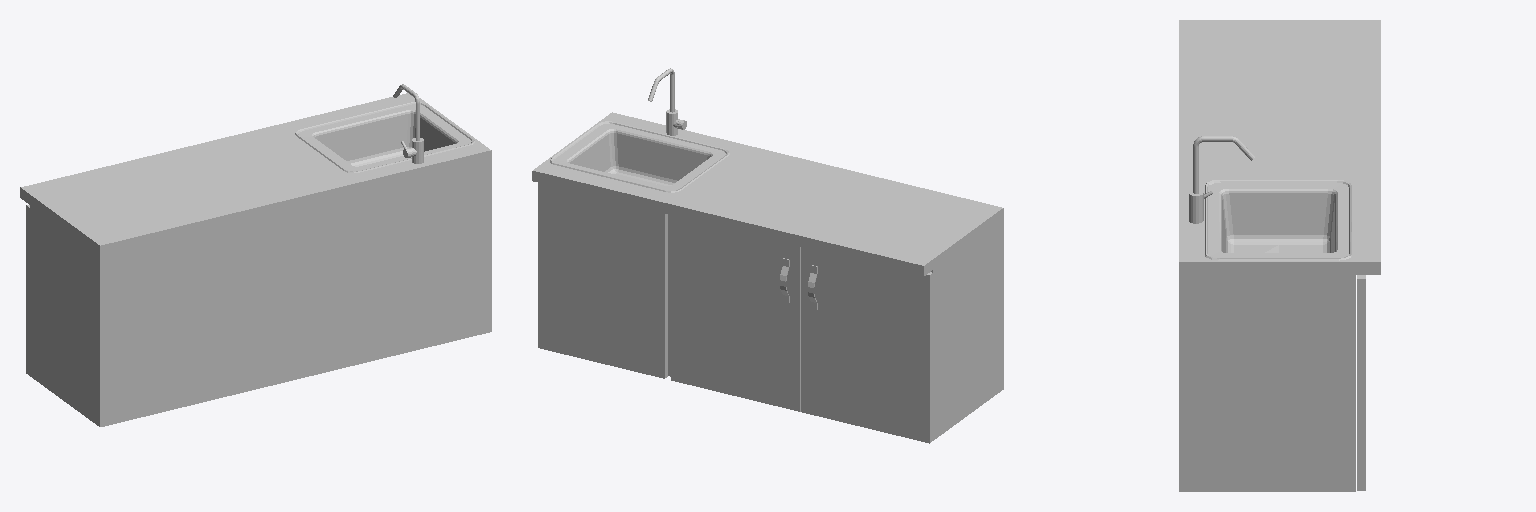
URDF robot description (sink):
<?xml version="1.0" ?>
<robot name="sink">
  <link name="sink">
    <inertial>
      <origin rpy="0 0 0" xyz="0 0 0"/>
      <mass value="1.0"/>
      <inertia ixx="1.821E-05" ixy="-4.1084E-09" ixz="-1.448E-07" iyy="1.062E-05" iyz="-1.5136E-09" izz="1.0557E-05"/>
    </inertial>
    <visual>
      <origin rpy="0 0 0" xyz="0 0 0"/>
      <geometry>
        <mesh filename="sink.obj"/>
      </geometry>
      <material name="aluminium">
        <color rgba="0.827450980392156 0.827450980392156 0.827450980392156 1.0"/>
      </material>
    </visual>
    <collision>
      <origin rpy="0 0 0" xyz="0 0 0"/>
      <geometry>
        <mesh filename="sink.obj"/>
      </geometry>
    </collision>
  </link>
</robot>

--- What the picture shows (computed from the rendered views, not written in the file) ---
Views: 3 orthographic renders of the robot side by side, from view 1: azimuth 30°, elevation 25°; view 2: azimuth 150°, elevation 25°; view 3: azimuth 270°, elevation 25°.
Robot: sink — 1 links, 0 joints (none); root link sink; default pose: every joint at zero.
Visible links, largest first — view 1: sink; view 2: sink; view 3: sink.
Link boxes in pixels (x1,y1,x2,y2): sink: (20, 84, 491, 426); sink: (532, 68, 1003, 443); sink: (1179, 20, 1380, 491).
Bounding box of the posed robot: 1.87 × 0.659 × 1.13 m (x, y, z).
1 mesh visuals loaded from 1 distinct referenced files (1 OBJ).
